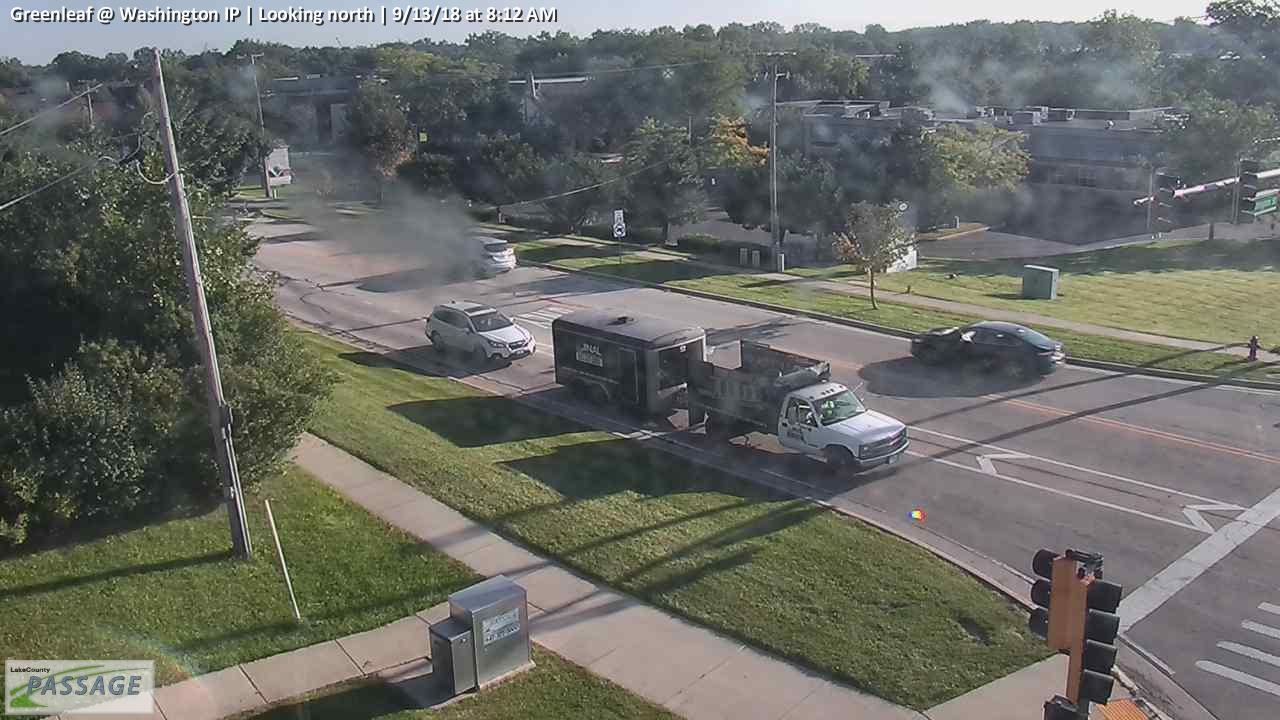SUV: (423, 301, 537, 366), (445, 235, 517, 277)
Sedan: (910, 319, 1063, 378)
Truck: (552, 307, 910, 476)
